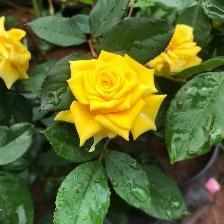rose: (64, 48, 168, 149), (144, 20, 204, 76), (1, 14, 32, 89)
